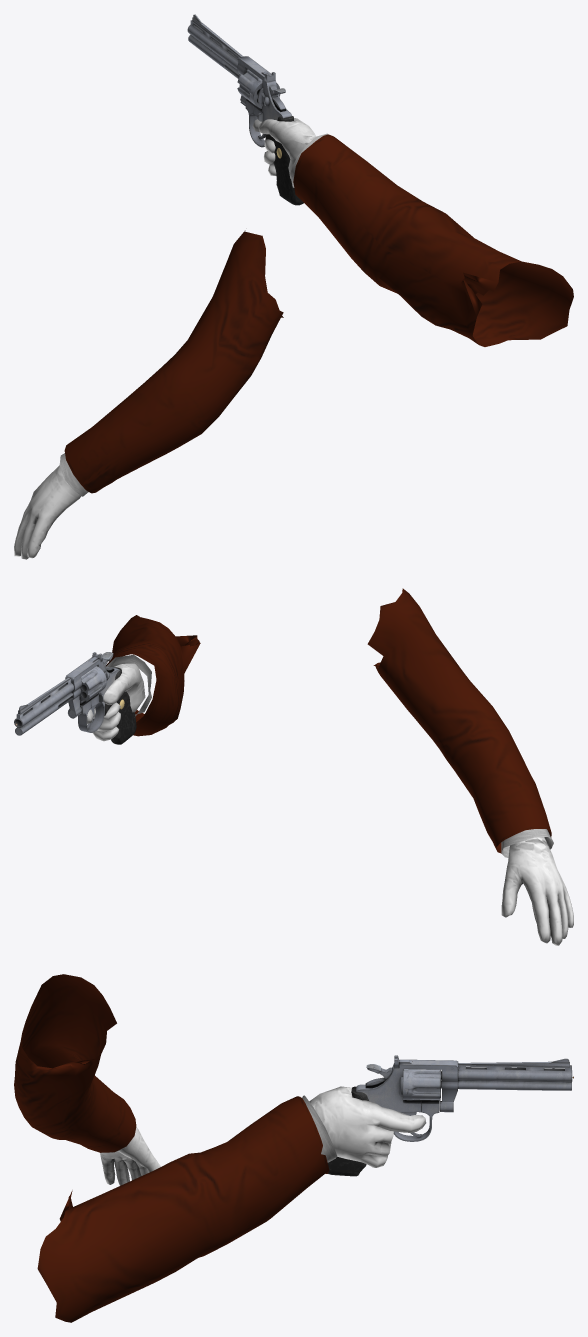
The model's file is frame_12.obj.
3 renders of one model, top to bottom at view 1: azimuth 30°, elevation 25°; view 2: azimuth 150°, elevation 25°; view 3: azimuth 270°, elevation 25°, orthographic. The views are drawn at different scales.
Visible parts, largest first — view 1: PlayerModelMerged.001_PlayerModelMerged, Plane.008_meshId0_name; view 2: PlayerModelMerged.001_PlayerModelMerged, Plane.008_meshId0_name, Plane.001_meshId0_name.001; view 3: PlayerModelMerged.001_PlayerModelMerged, Plane.008_meshId0_name, Plane.001_meshId0_name.001.
Part boxes in pixels (x1=…): PlayerModelMerged.001_PlayerModelMerged: x1=14, y1=118, x2=573, y2=559; Plane.008_meshId0_name: x1=187, y1=14, x2=303, y2=205; PlayerModelMerged.001_PlayerModelMerged: x1=87, y1=588, x2=573, y2=945; Plane.008_meshId0_name: x1=14, y1=652, x2=136, y2=744; Plane.001_meshId0_name.001: x1=79, y1=666, x2=106, y2=703; PlayerModelMerged.001_PlayerModelMerged: x1=14, y1=974, x2=426, y2=1322; Plane.008_meshId0_name: x1=327, y1=1055, x2=572, y2=1176; Plane.001_meshId0_name.001: x1=403, y1=1069, x2=441, y2=1100.
Size of the model in its own units: 1.15 by 0.6506 by 0.9913.
